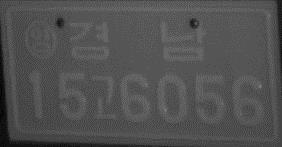0: (154, 72, 190, 124)
1: (23, 67, 48, 120)
5: (192, 72, 228, 126), (56, 70, 89, 120)
6: (230, 74, 266, 127), (118, 72, 152, 124)
경남_D: (68, 18, 208, 65)
고: (88, 72, 118, 122)
영: (23, 20, 58, 60)
